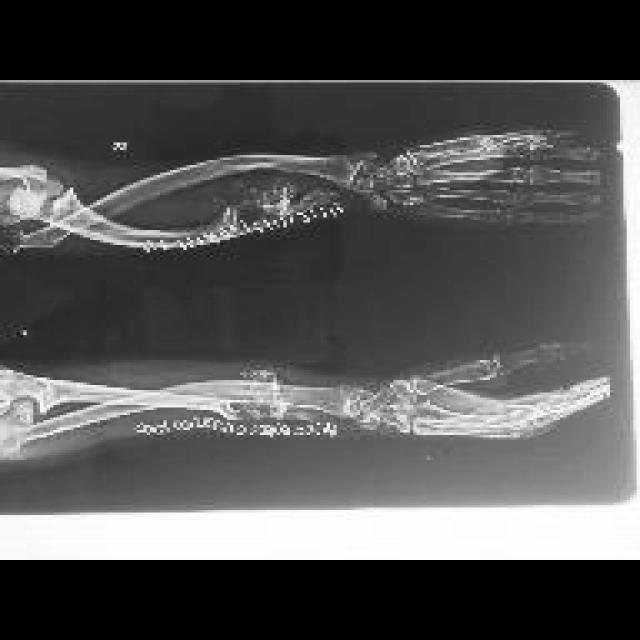bone-cancer: (215, 177, 344, 237), (219, 366, 292, 420)
